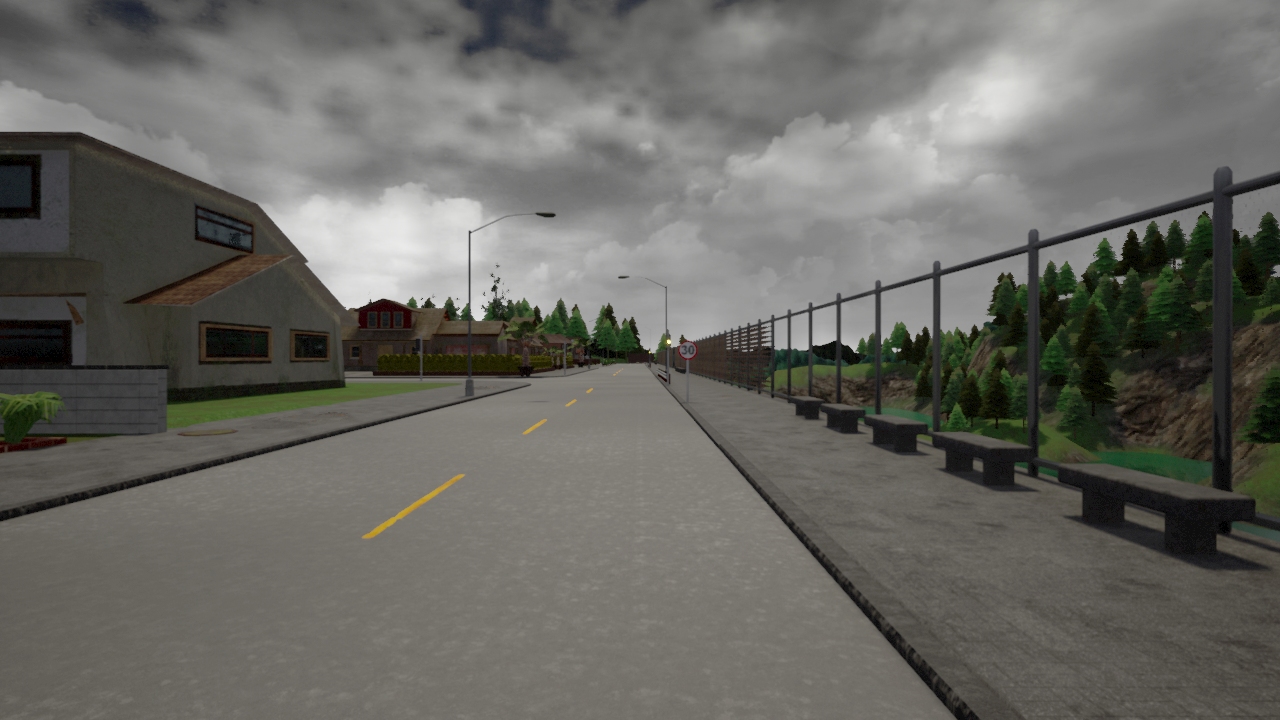yellow: (664, 334, 671, 351)
